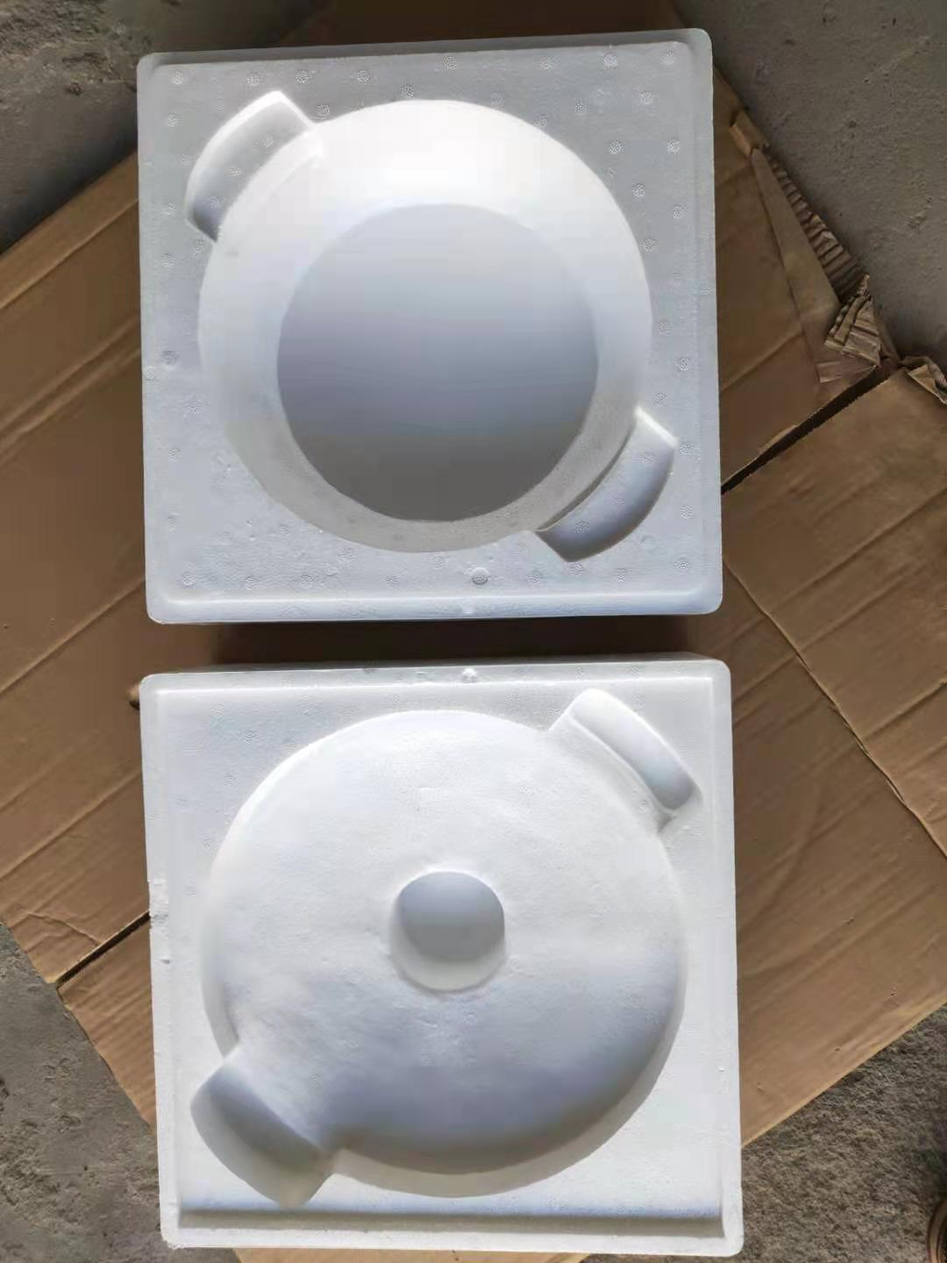Boxes: (139, 659, 742, 1253), (139, 32, 721, 623)
